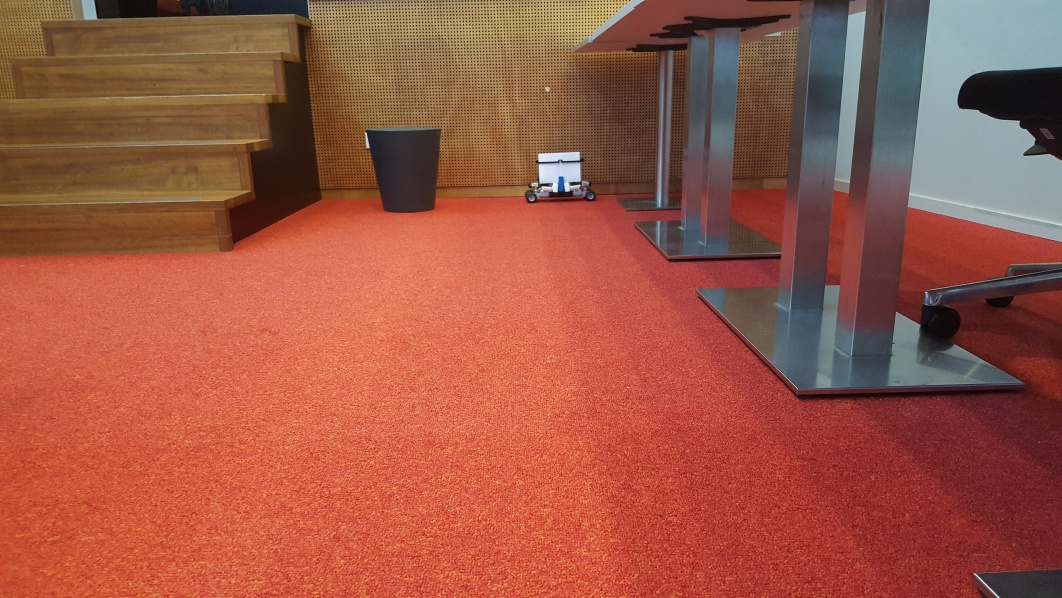car: (522, 152, 597, 205)
